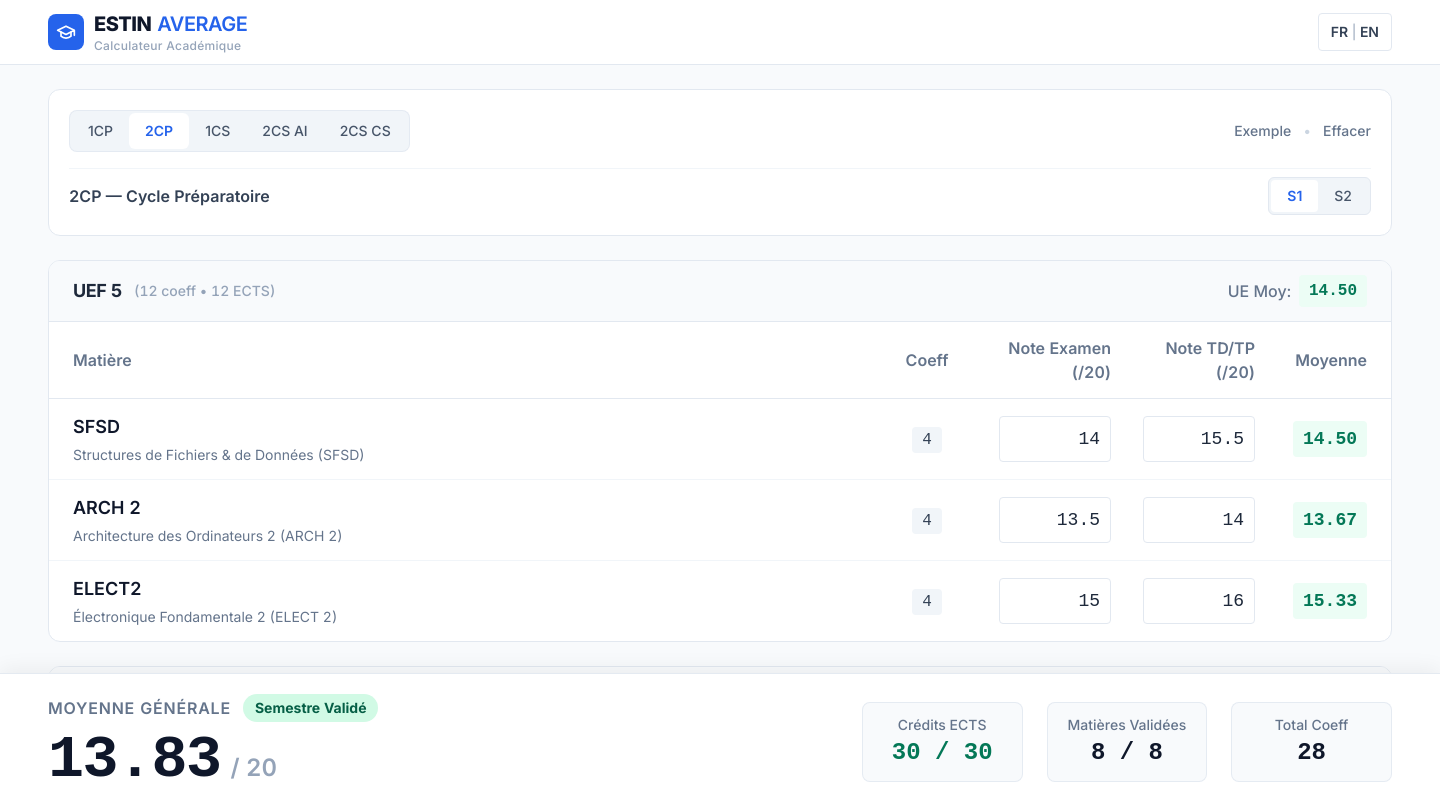
Scenario: ESTIN Average Application UI & Interactive QA › handles the Example button and populates realistic passing grades
Note: First clear
Click the button "Effacer": (1347, 131) x1=1323 y1=121 x2=1371 y2=141
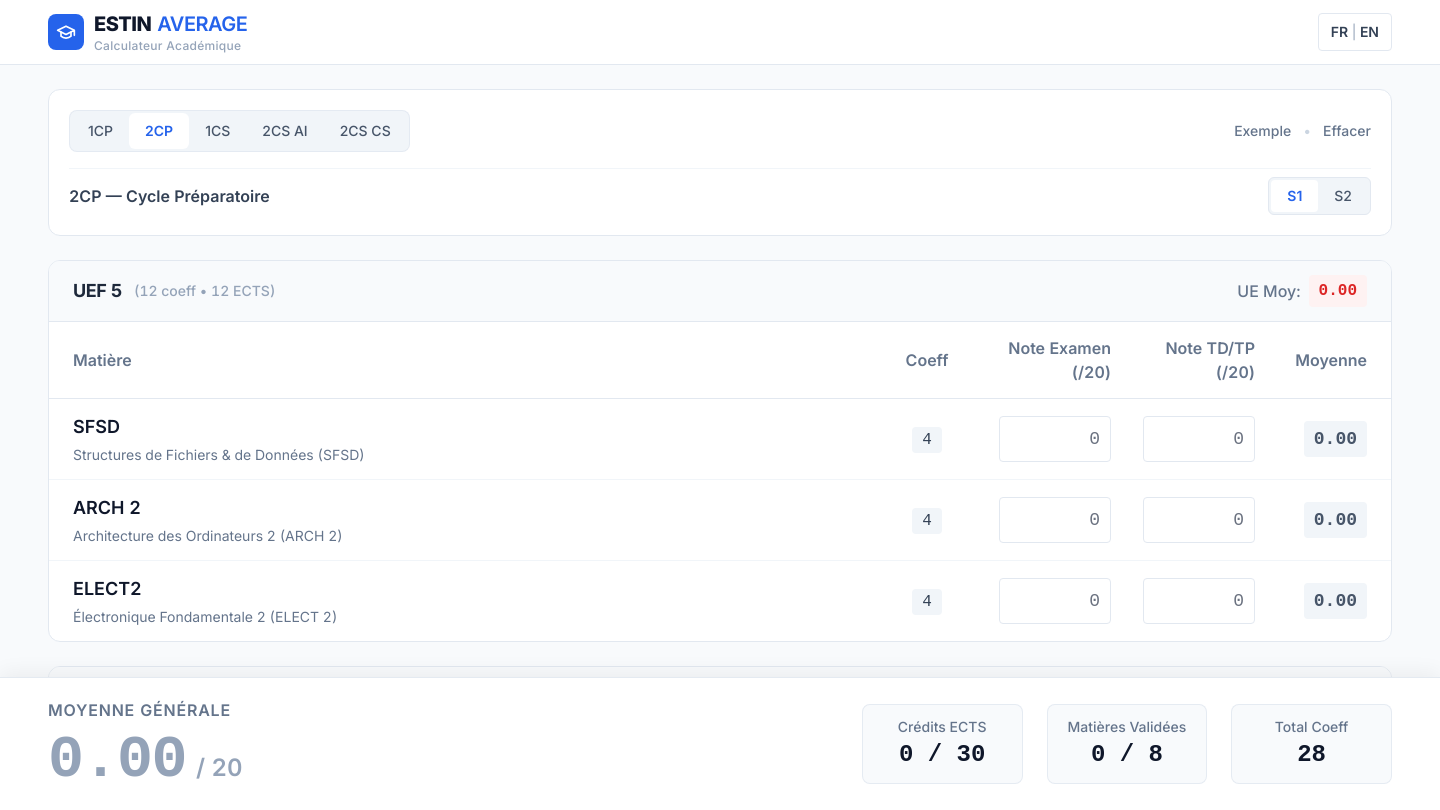
Now the text with id "gpa-score" reads "0.00", box x1=48 y1=726 x2=186 y2=794
Note: Now populate sample
Click the button "Exemple": (1263, 131) x1=1234 y1=121 x2=1291 y2=141
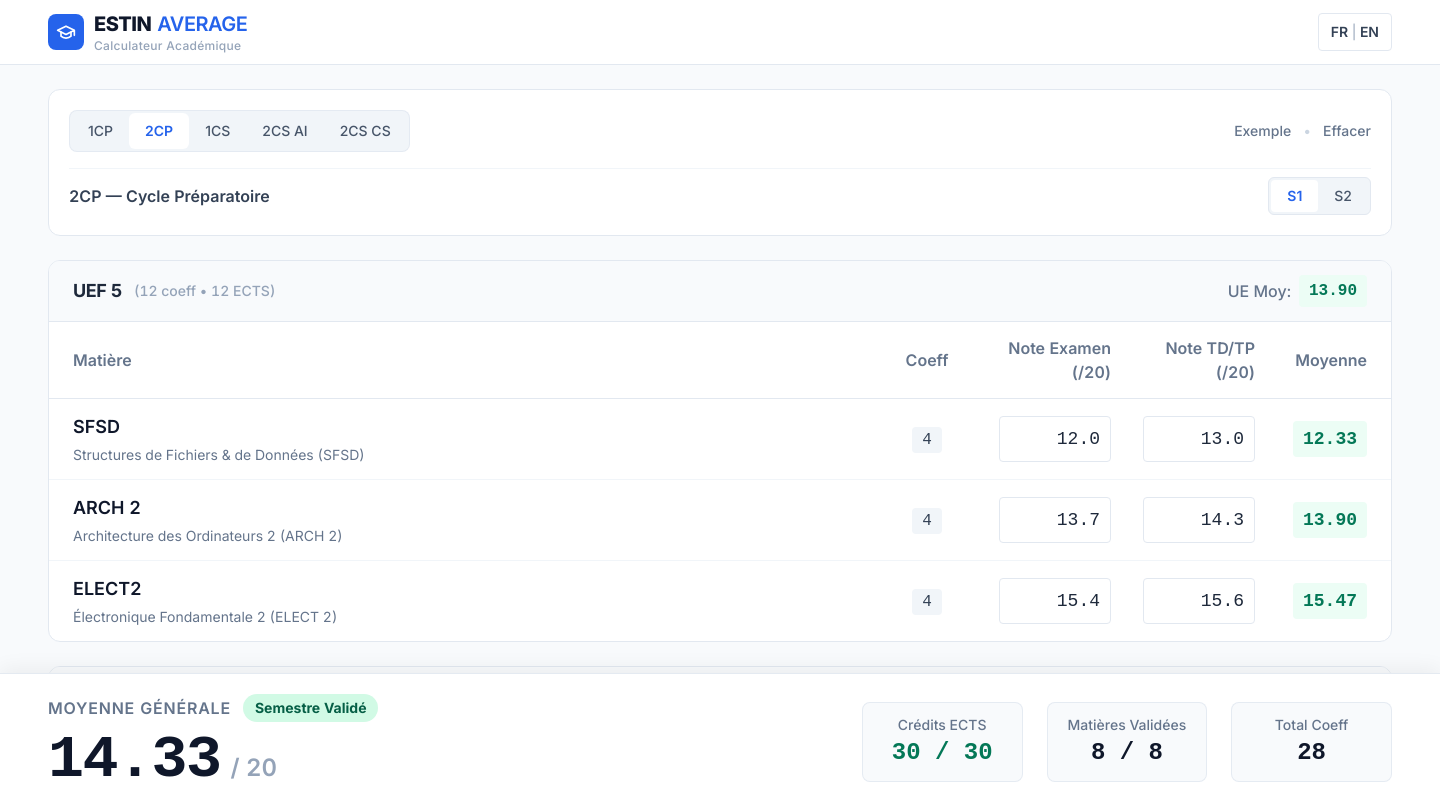
Now the text with id "kpi-credits-val" reads "30 / 30", box x1=892 y1=739 x2=992 y2=766
Now the text with id "kpi-modules-val" reads "8 / 8", box x1=1091 y1=739 x2=1163 y2=766
Now the text "Semestre Validé" is shown, box x1=243 y1=694 x2=378 y2=722
